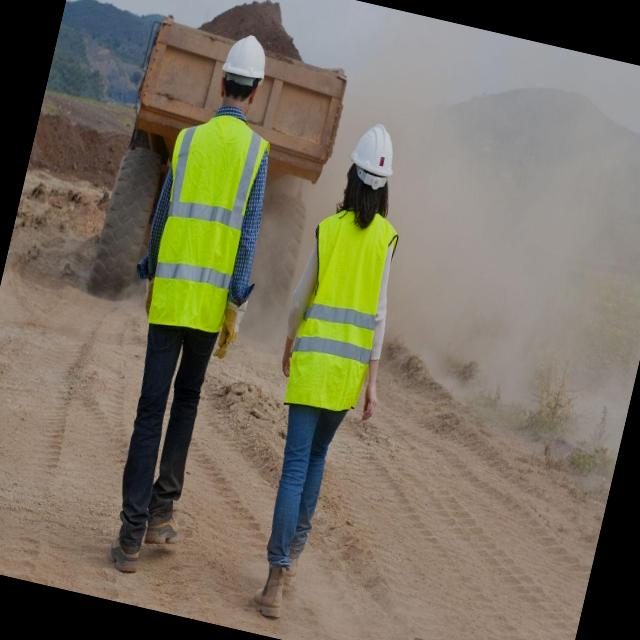helmet: (343, 111, 408, 188), (214, 22, 276, 88)
vest: (132, 102, 278, 344), (271, 192, 407, 423)
